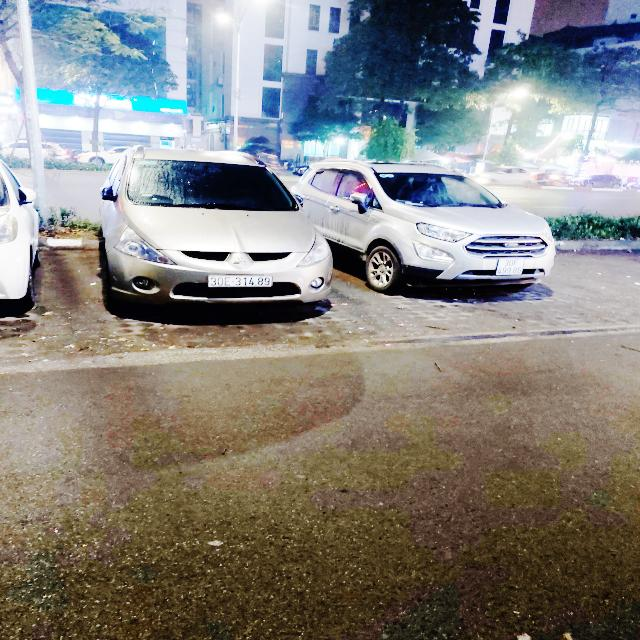license_plate: (206, 276, 277, 290), (496, 257, 528, 276)
